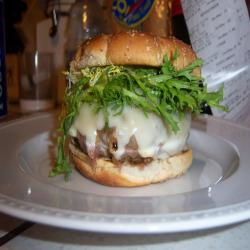burger: (43, 25, 215, 194)
salad: (64, 60, 225, 120)
